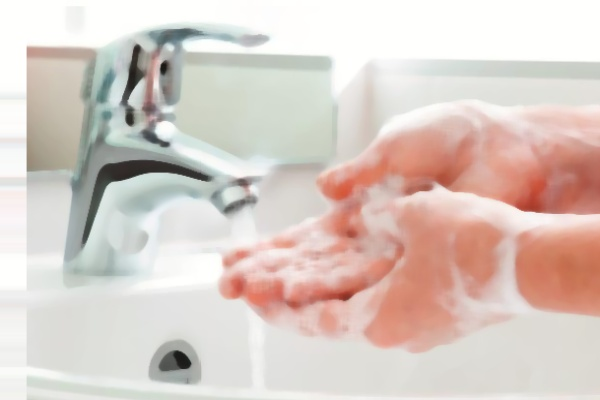washing hand: (73, 12, 551, 389)
